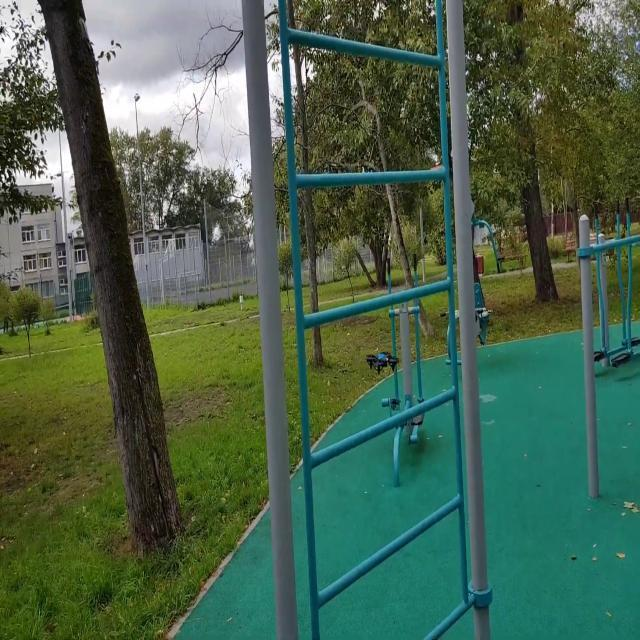Drons: (361, 350, 404, 378)
